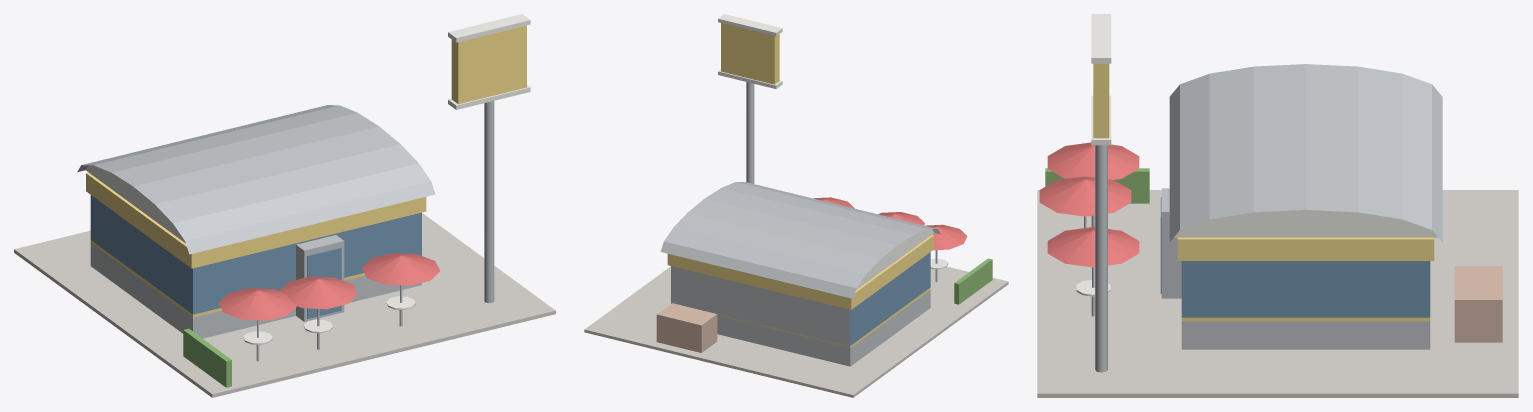
The picture shows the model from 3 angles, left to right: view 1: azimuth 30°, elevation 25°; view 2: azimuth 150°, elevation 25°; view 3: azimuth 270°, elevation 25°; orthographic projection. The views are drawn at different scales.
Parts seen in each view (by area): view 1: c_1_1_e; view 2: c_1_1_e; view 3: c_1_1_e.
Boxes of the visible parts, x1,y1,x2,y2 form: c_1_1_e: (14, 14, 555, 397); c_1_1_e: (584, 14, 1008, 397); c_1_1_e: (1037, 14, 1518, 397).
Size of the model in its own units: 12 by 9.3 by 12.
